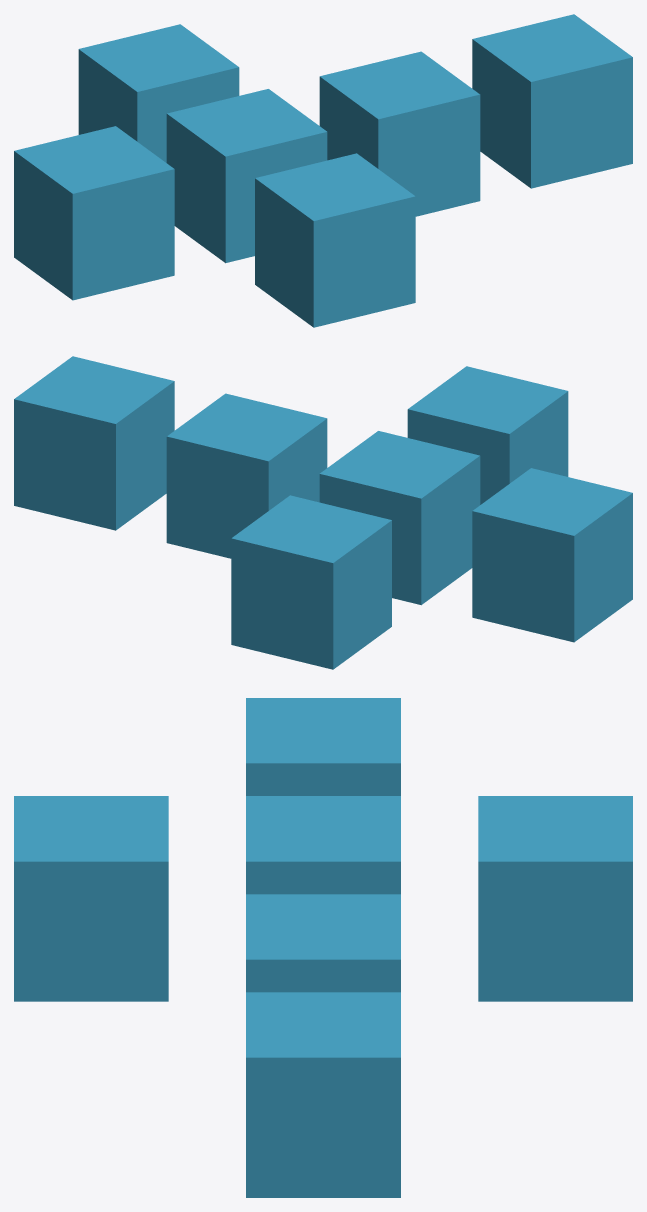
The model's file is instances.dae.
3 views of the same model, one above another, from view 1: azimuth 30°, elevation 25°; view 2: azimuth 150°, elevation 25°; view 3: azimuth 270°, elevation 25° (orthographic). The views are drawn at different scales.
Visible parts, largest first — view 1: Cube_003, Cube_004, Cube_005, Cube_001, Cube, Cube_002; view 2: Cube_003, Cube_002, Cube_005, Cube_001, Cube, Cube_004; view 3: Cube_002, Cube_004, Cube_005, Cube, Cube_001, Cube_003.
Boxes of the visible parts, x1=… form: Cube_003: x1=14, y1=126, x2=174, y2=300; Cube_004: x1=255, y1=153, x2=415, y2=327; Cube_005: x1=472, y1=14, x2=632, y2=188; Cube_001: x1=319, y1=51, x2=480, y2=216; Cube: x1=166, y1=89, x2=327, y2=263; Cube_002: x1=78, y1=24, x2=239, y2=162; Cube_003: x1=472, y1=468, x2=632, y2=642; Cube_002: x1=231, y1=495, x2=391, y2=669; Cube_005: x1=14, y1=356, x2=174, y2=530; Cube_001: x1=166, y1=393, x2=327, y2=558; Cube: x1=319, y1=431, x2=480, y2=605; Cube_004: x1=407, y1=366, x2=568, y2=504; Cube_002: x1=478, y1=796, x2=632, y2=1001; Cube_004: x1=14, y1=796, x2=168, y2=1001; Cube_005: x1=246, y1=992, x2=400, y2=1197; Cube: x1=246, y1=796, x2=400, y2=894; Cube_001: x1=246, y1=894, x2=400, y2=992; Cube_003: x1=246, y1=698, x2=400, y2=795.
Bounding box in the file's own units: 11 × 8 × 2.
